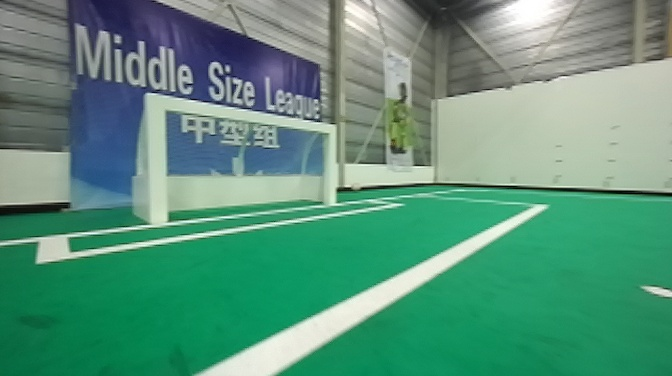goalpost: (136, 89, 174, 233), (313, 113, 344, 218)
